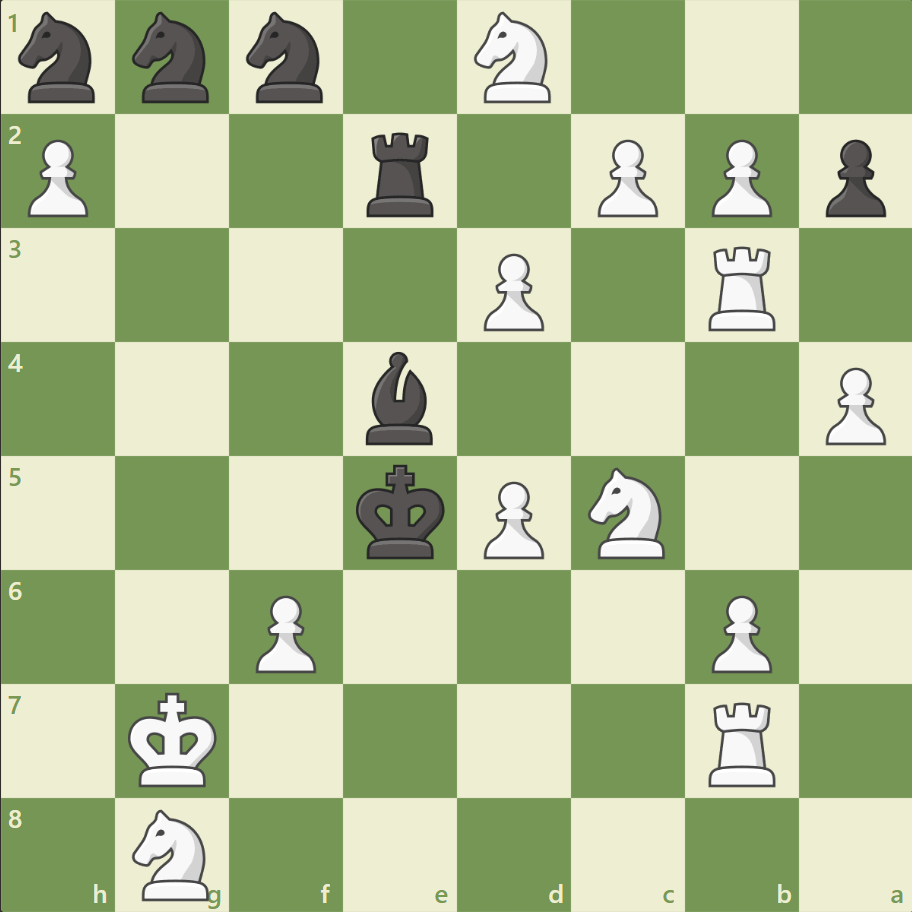K: (124, 685, 224, 793)
N: (124, 802, 222, 904), (579, 461, 676, 564), (465, 7, 562, 110)
P: (701, 586, 776, 677), (247, 586, 322, 677), (474, 473, 549, 564), (474, 246, 549, 337), (701, 132, 776, 223), (20, 132, 95, 223), (815, 359, 889, 450), (588, 132, 662, 223)
R: (700, 693, 783, 790), (700, 239, 783, 336)
b: (358, 347, 442, 449)
k: (351, 458, 451, 566)
n: (124, 7, 222, 110), (238, 7, 335, 110), (11, 7, 108, 110)
p: (815, 132, 889, 223)
r: (360, 125, 442, 222)
